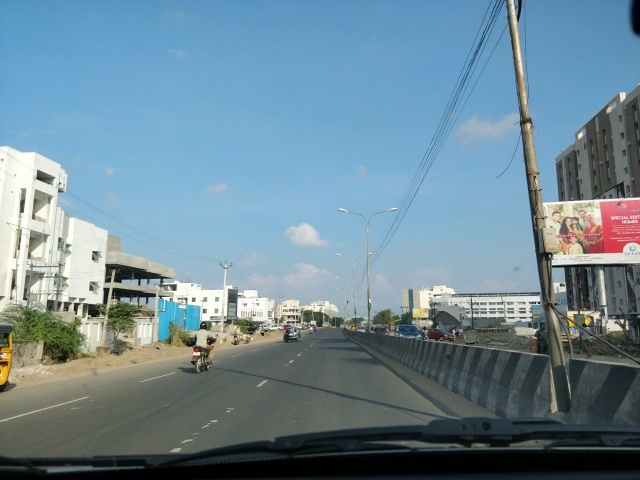auto: (1, 325, 12, 386)
car: (395, 322, 422, 339), (282, 324, 303, 344)
motobike: (193, 320, 216, 374)
motorbike: (311, 322, 318, 335)
